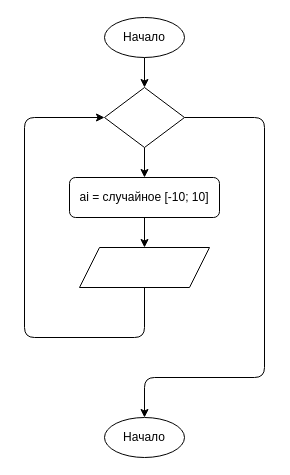
Image size: 290x475. Some labels were removed from this diagram. Here are the shapes that lost their labels. From the top down, the centre of each, then its label:
At (144,117): "i, 1, 10".
At (144,267): "Вывод: ai".
